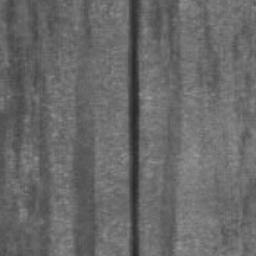Scratches: (128, 0, 140, 256)
